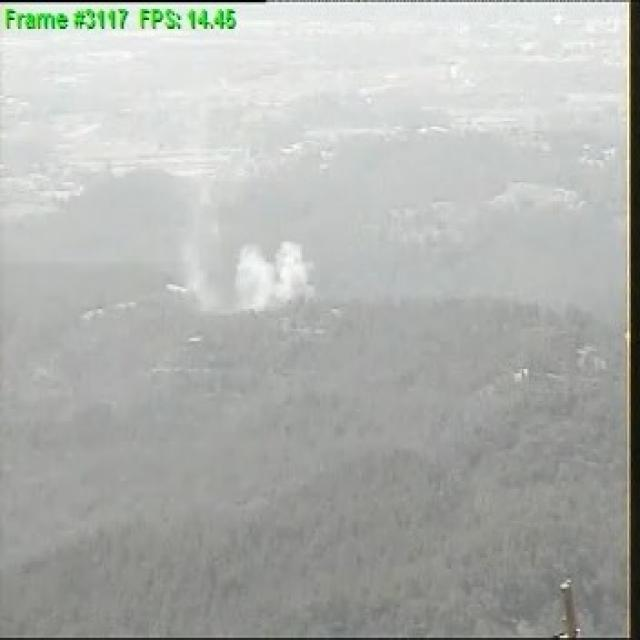smoke: (182, 232, 314, 318)
